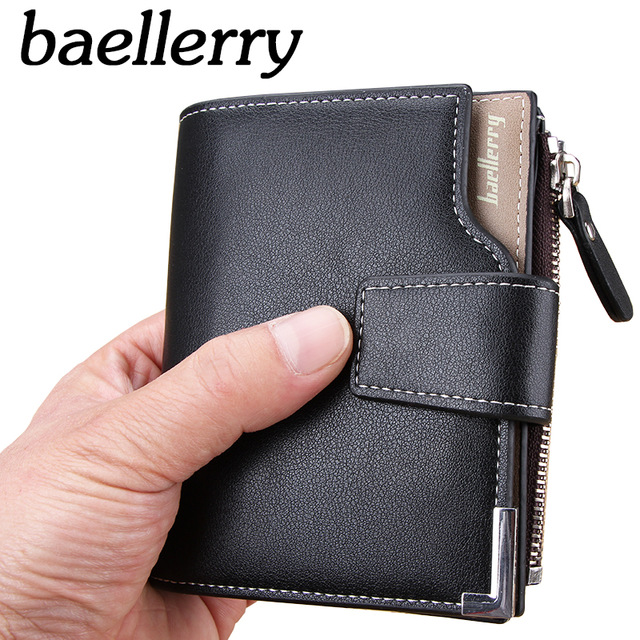monedero: (140, 82, 585, 627)
